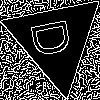D: (30, 15, 81, 59)
